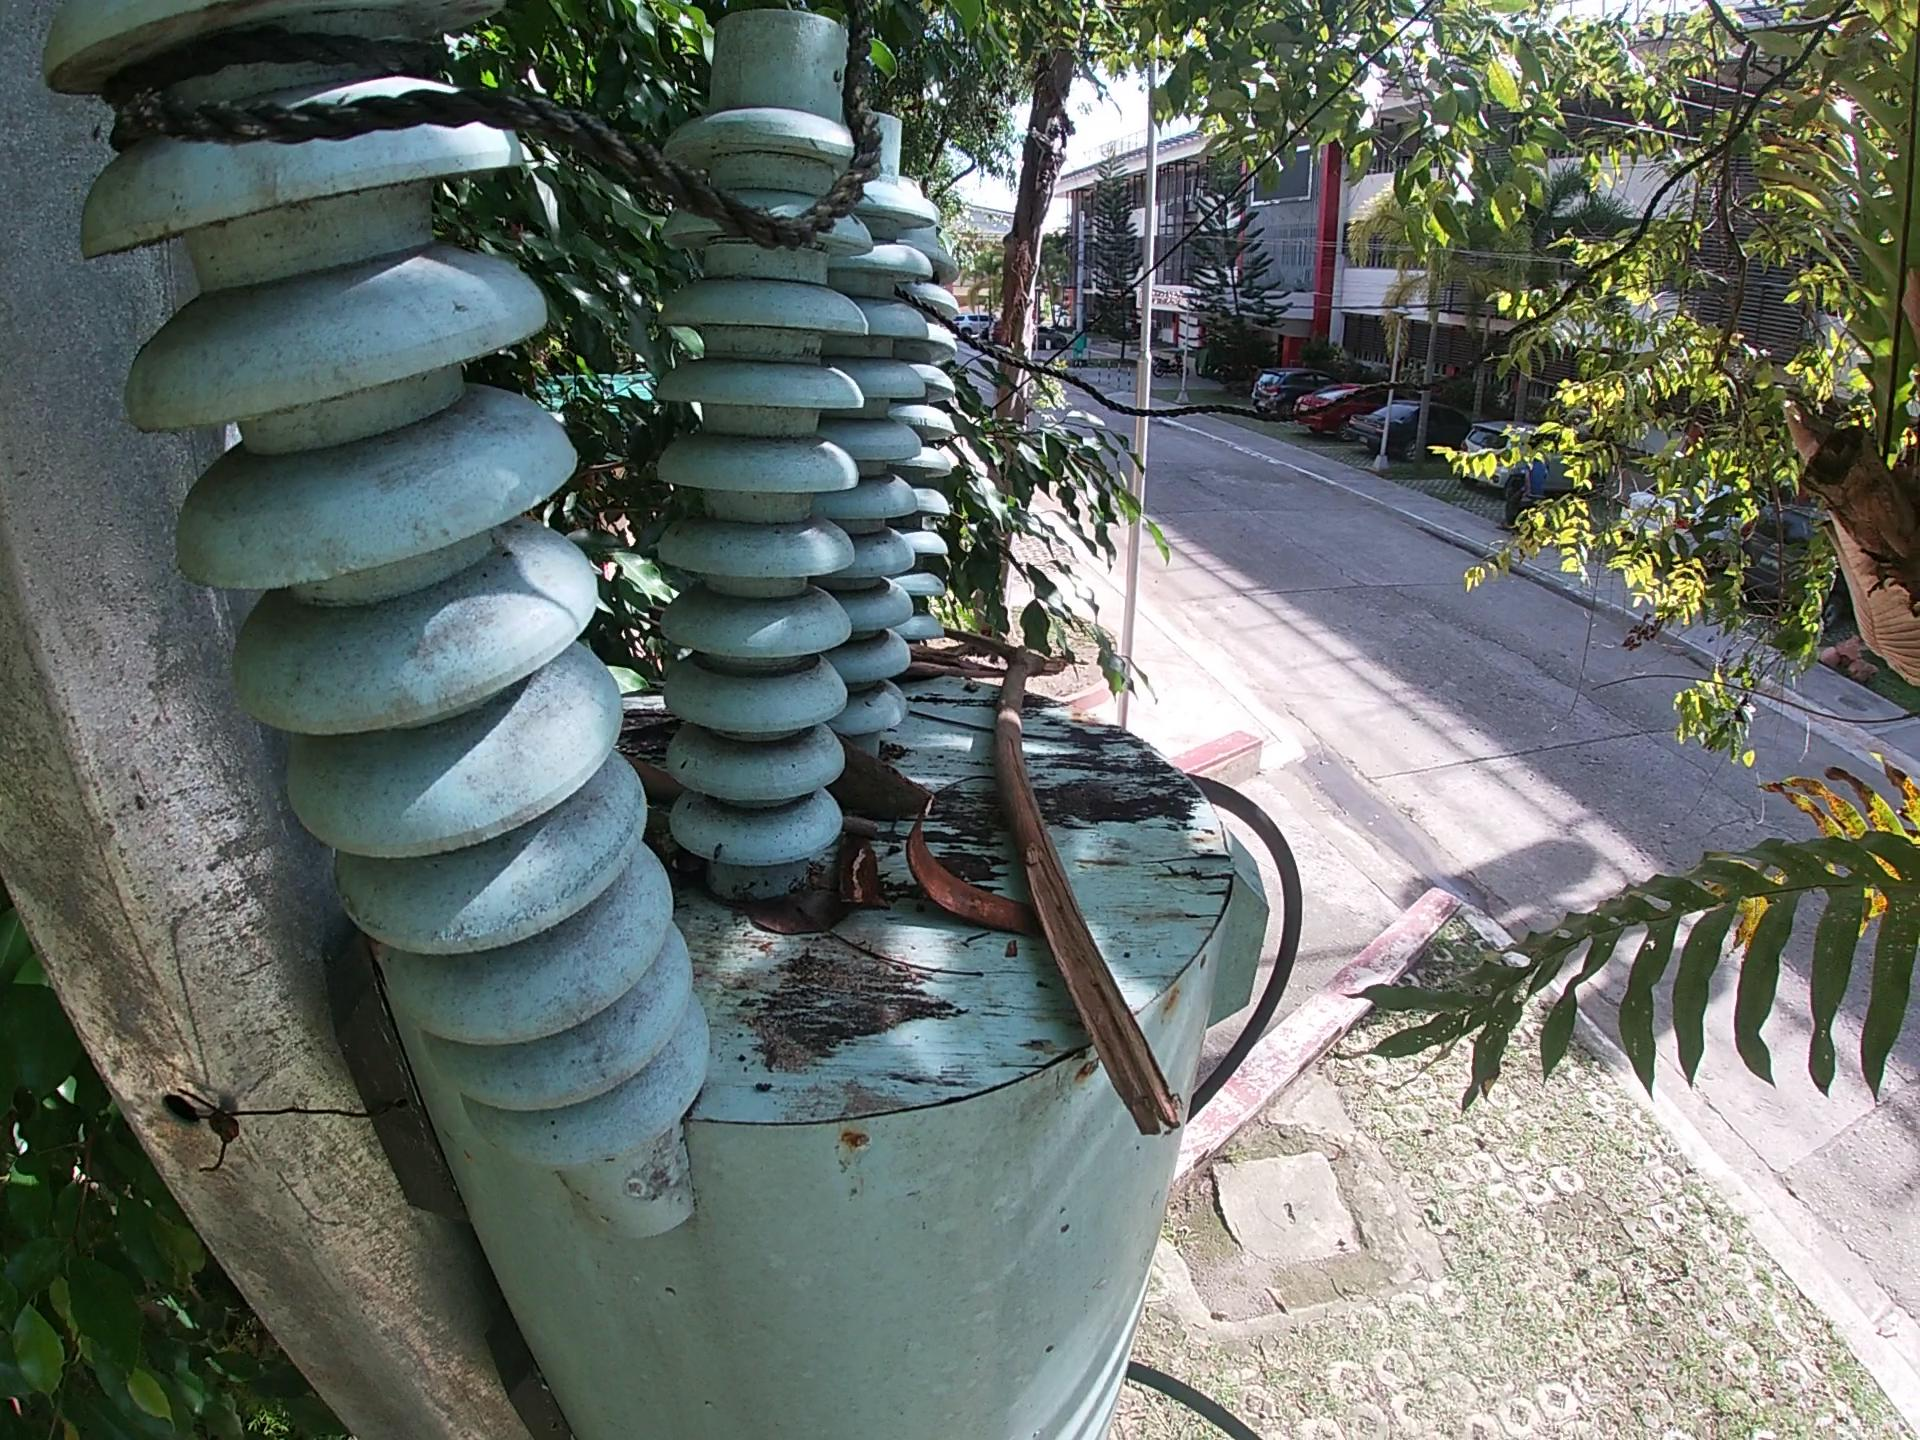leaf: (735, 871, 850, 942)
mahogany fruit: (900, 794, 1045, 941), (824, 734, 945, 818), (828, 830, 900, 914)
tree branch: (939, 620, 1187, 1147), (890, 638, 1011, 684), (836, 815, 886, 841)
